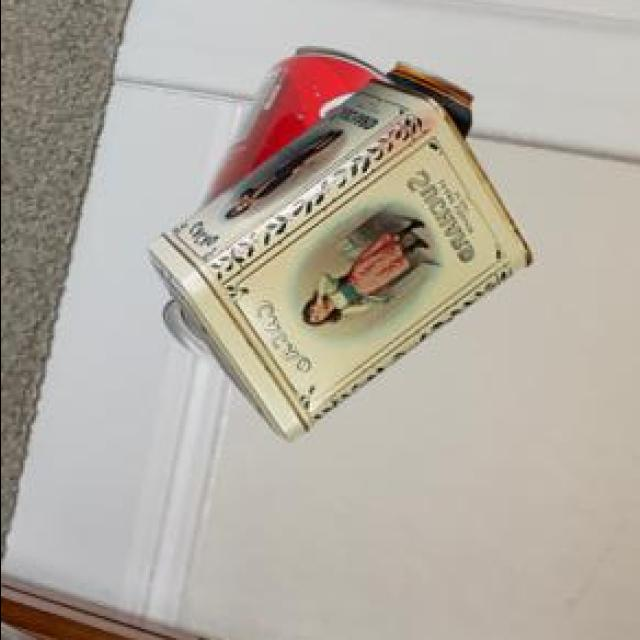logam: (150, 82, 534, 444), (165, 52, 398, 366), (387, 65, 475, 140)
